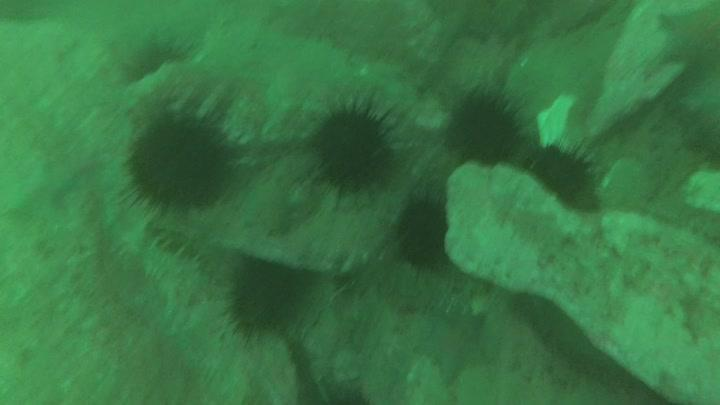urchin: (128, 112, 235, 215), (310, 96, 392, 193), (228, 265, 305, 341), (446, 83, 516, 166), (533, 147, 603, 220), (400, 201, 455, 282)
